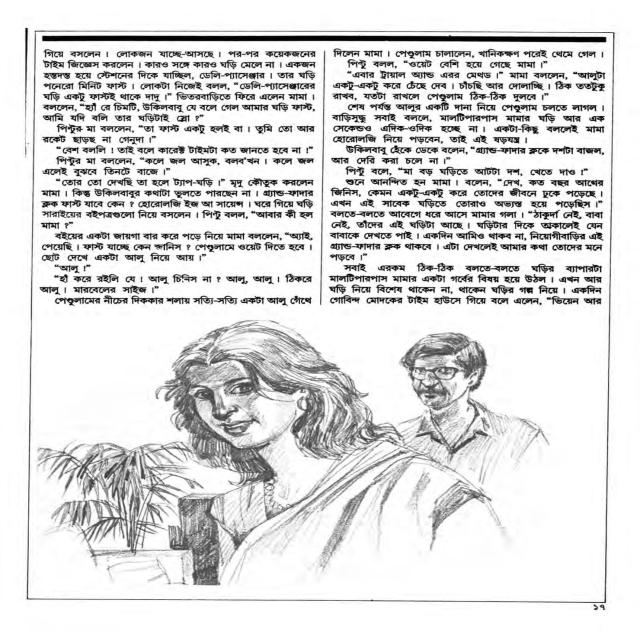image: (30, 316, 605, 595)
page number: (592, 604, 605, 611)
paragraph: (325, 176, 605, 262), (38, 47, 320, 122), (38, 177, 317, 230), (326, 261, 604, 307), (330, 102, 606, 145), (40, 229, 317, 265), (328, 70, 609, 103), (39, 121, 318, 145), (39, 155, 316, 177), (37, 273, 314, 295), (330, 144, 606, 165), (331, 46, 602, 59), (52, 295, 314, 308), (42, 143, 318, 155), (342, 165, 592, 177), (343, 58, 551, 69), (52, 263, 93, 273)
